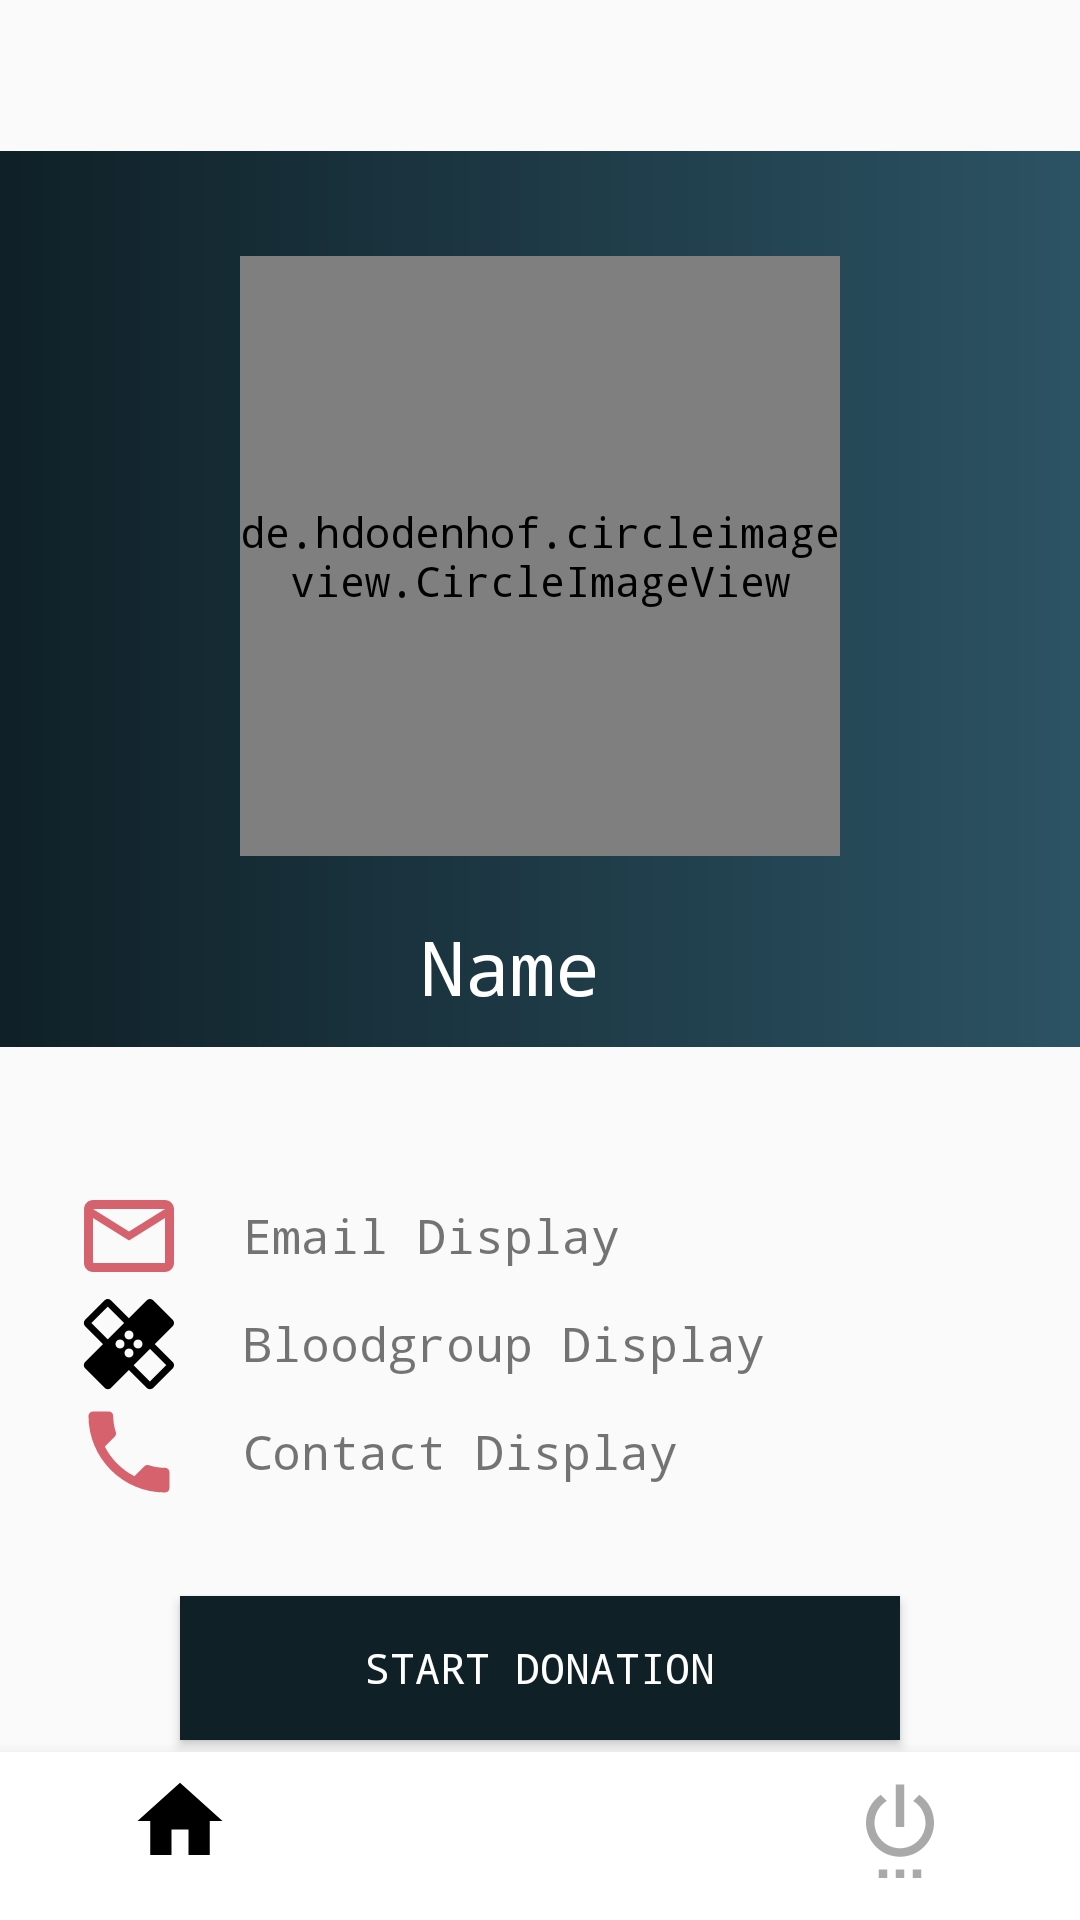

Locate icon controls on the screen. Image size 1080px x 1920px, boxes as (x1=x1, y1=y1, x2=x2, y2=y2).
call: (x1=88, y1=1411, x2=170, y2=1493)
healing: (x1=83, y1=1299, x2=174, y2=1390)
